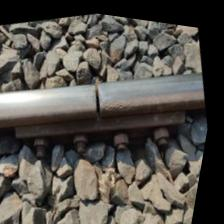person: (62, 58, 139, 134)
